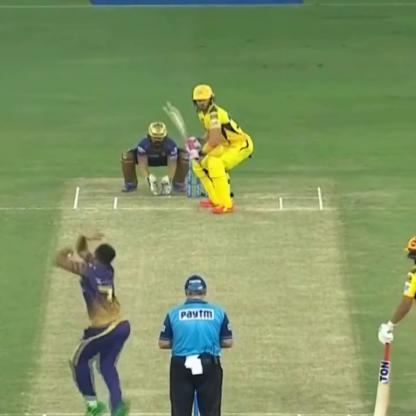ball: (55, 238, 81, 261)
bat: (159, 97, 201, 155)
pitch: (18, 183, 357, 416)
